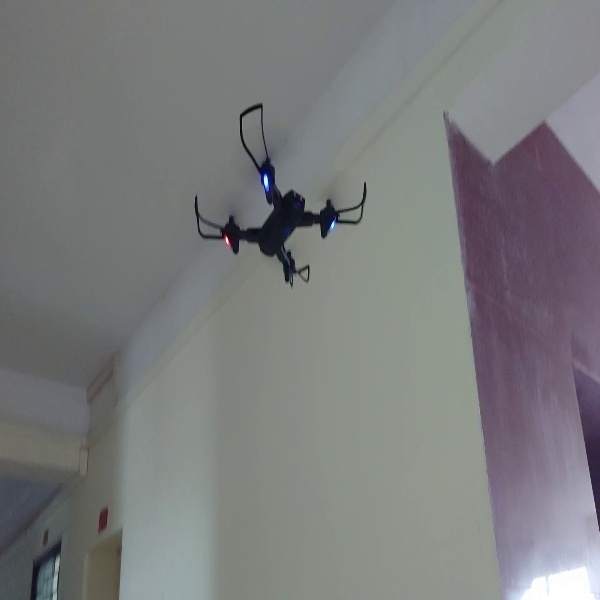drone: (193, 101, 370, 289)
